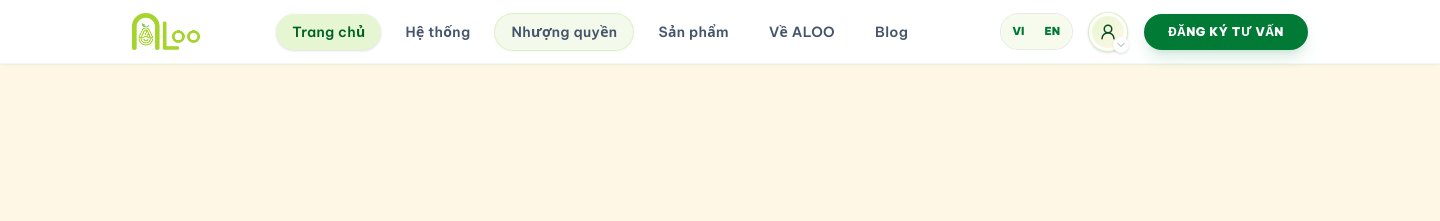
Navbar › opens the account menu from the public navbar
This screenshot has width=1440, height=221.
What coordinates should you click on to do the following:
click the button named "Đăng nhập"
I would click on:
 (1108, 32)
Its box is [1088,12,1128,52].
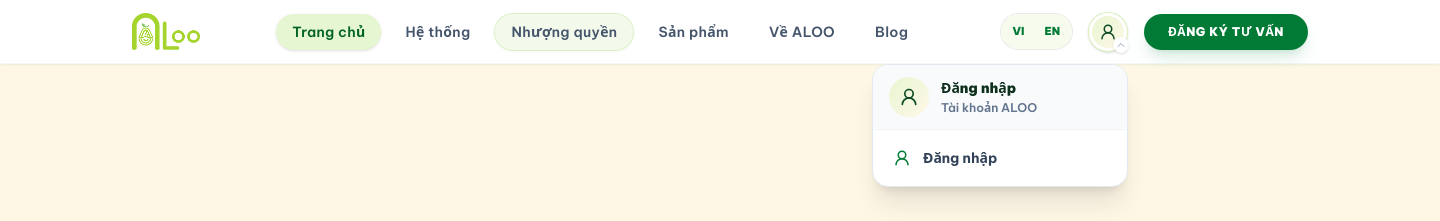
expect the menu is shown: met, box [872,64,1128,186]
expect the menu item to "/login" reads "Đăng nhập": met, box [893,148,997,166]
